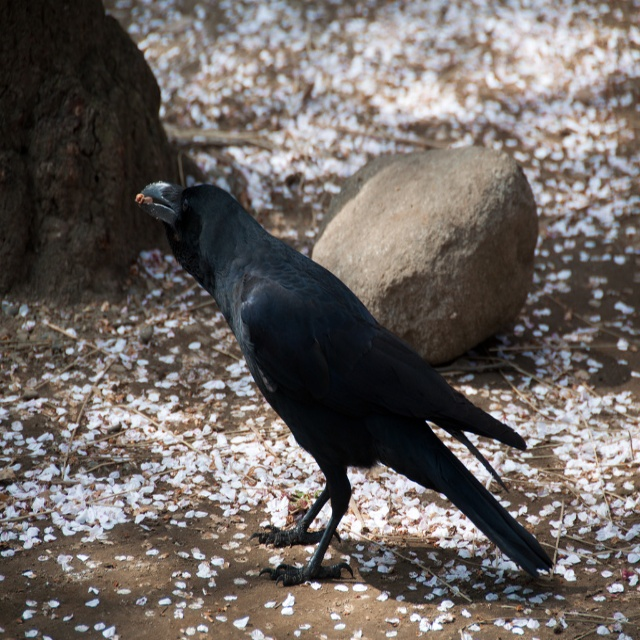Raven: (136, 183, 555, 587)
